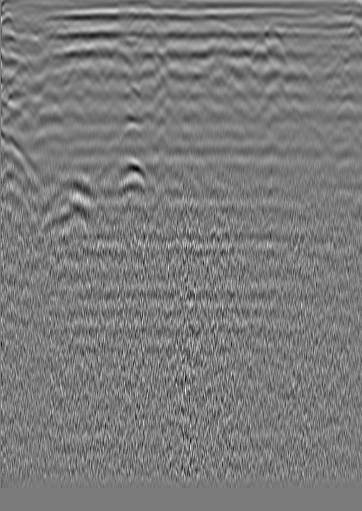가스: (114, 155, 148, 181)
상수: (17, 17, 37, 37)
오수: (312, 7, 332, 27)
우수: (152, 18, 172, 38)
